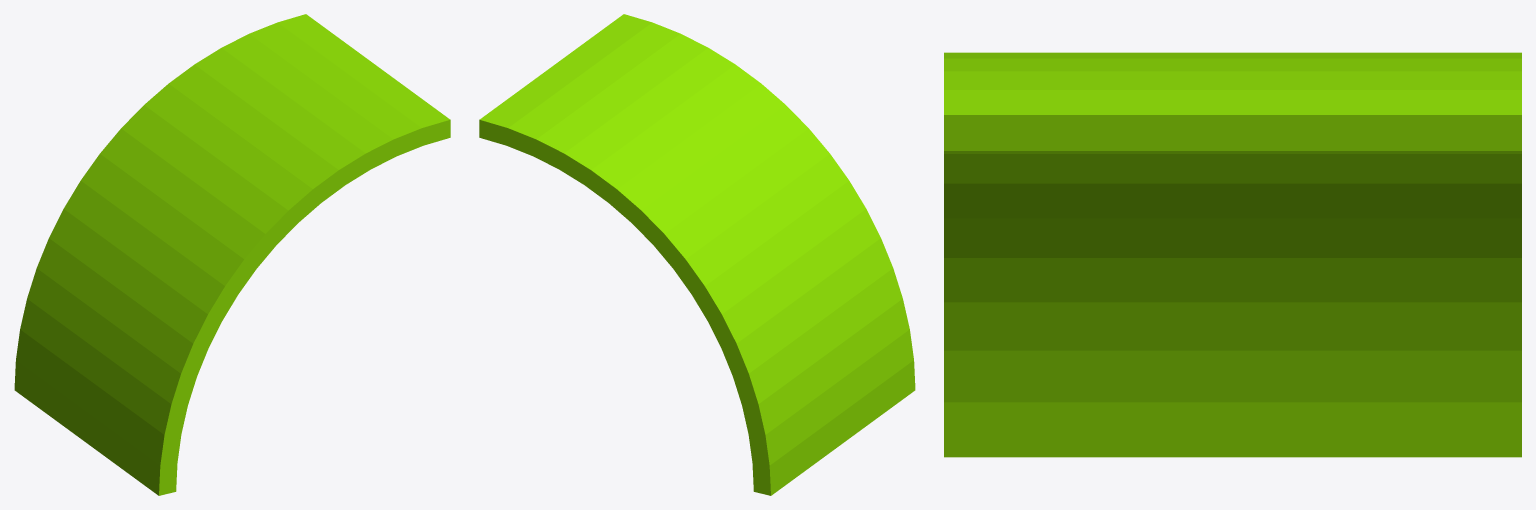
File: Wall_02_Roof.fbx
3 renders of one model, left to right at view 1: azimuth 30°, elevation 25°; view 2: azimuth 150°, elevation 25°; view 3: azimuth 270°, elevation 25°, orthographic. The views are drawn at different scales.
Parts seen in each view (by area): view 1: Wall_02_Roof; view 2: Wall_02_Roof; view 3: Wall_02_Roof.
Boxes of the visible parts, x1=… form: Wall_02_Roof: x1=14, y1=14, x2=450, y2=495; Wall_02_Roof: x1=479, y1=14, x2=915, y2=495; Wall_02_Roof: x1=944, y1=52, x2=1521, y2=457.
Bounding box in the file's own units: 375 × 375 × 322.
